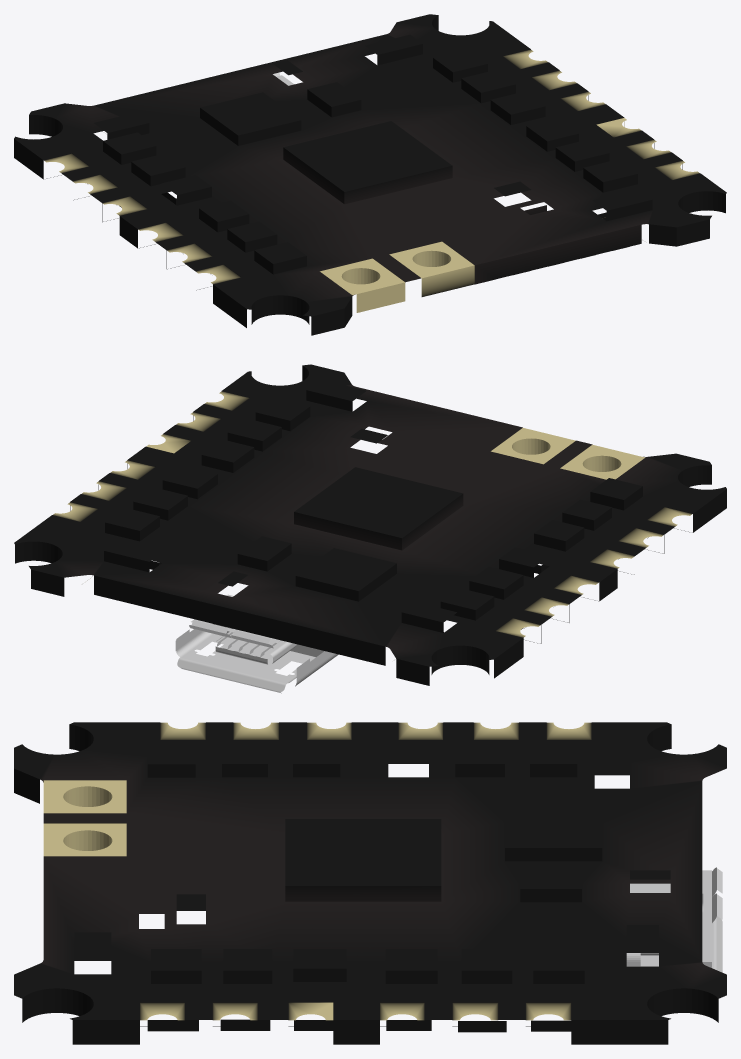
The model's file is flight-controller.glb.
3 views of the same model, one above another, from view 1: azimuth 30°, elevation 25°; view 2: azimuth 150°, elevation 25°; view 3: azimuth 270°, elevation 25° (orthographic). The views are drawn at different scales.
Parts seen in each view (by area): view 1: world; view 2: world; view 3: world.
Boxes of the visible parts, left/top/right/bottom form: world: left=14, top=14, right=726, bottom=335; world: left=14, top=364, right=726, bottom=693; world: left=14, top=722, right=726, bottom=1044.
Bounding box in the file's own units: 0.0286 × 0.0045 × 0.029.
